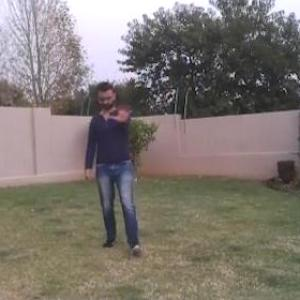follow_hand: (106, 96, 137, 123)
